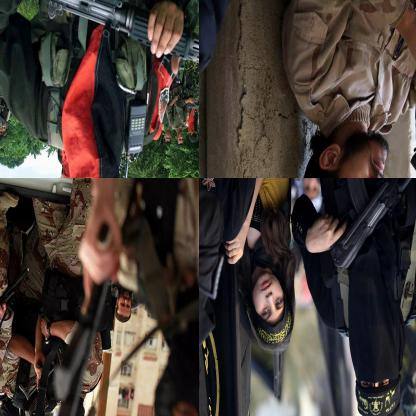rifle: (0, 0, 198, 94), (330, 178, 415, 272), (21, 329, 62, 415), (0, 264, 31, 370), (0, 109, 21, 133)
